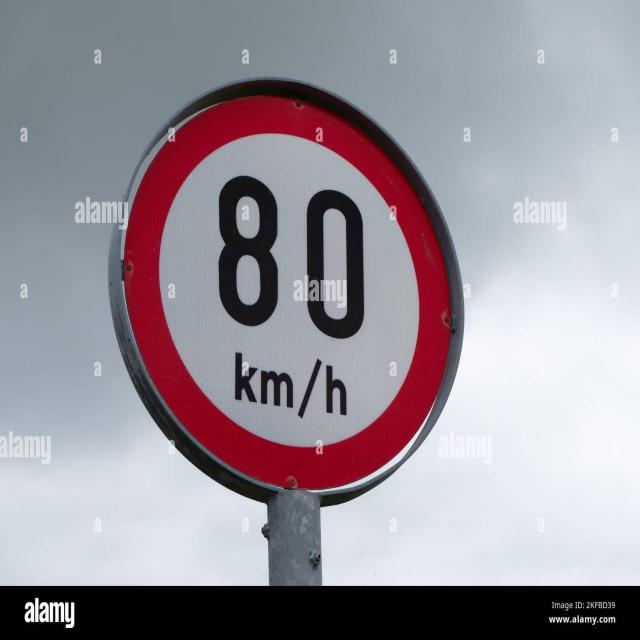speed_80: (121, 93, 452, 490)
